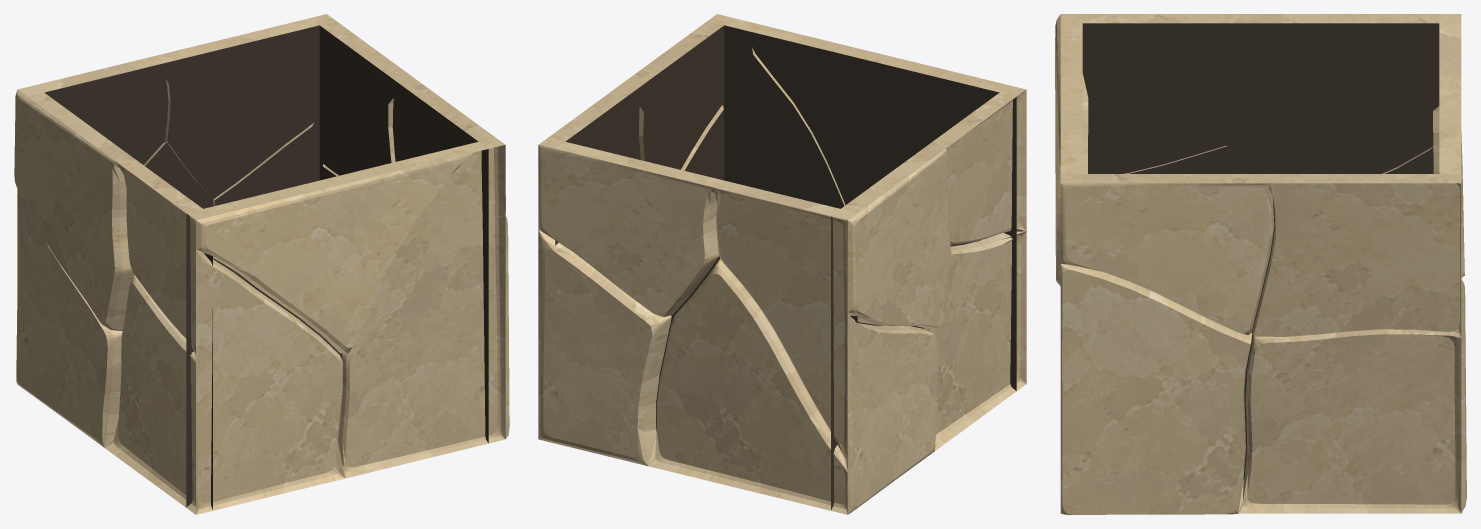
The model's file is ground_island_01.glb.
The picture shows the model from 3 angles, left to right: view 1: azimuth 30°, elevation 25°; view 2: azimuth 150°, elevation 25°; view 3: azimuth 270°, elevation 25°; orthographic projection. The views are drawn at different scales.
Visible parts, largest first — view 1: GroundIsland01_Body; view 2: GroundIsland01_Body; view 3: GroundIsland01_Body.
Part boxes in pixels (x1,y1,x2,y2): GroundIsland01_Body: [14, 14, 509, 514]; GroundIsland01_Body: [538, 14, 1026, 514]; GroundIsland01_Body: [1055, 14, 1466, 514].
Bounding box in the file's own units: 1.03 × 0.91 × 1.03.
Materials: 17 (16 with a texture image).
